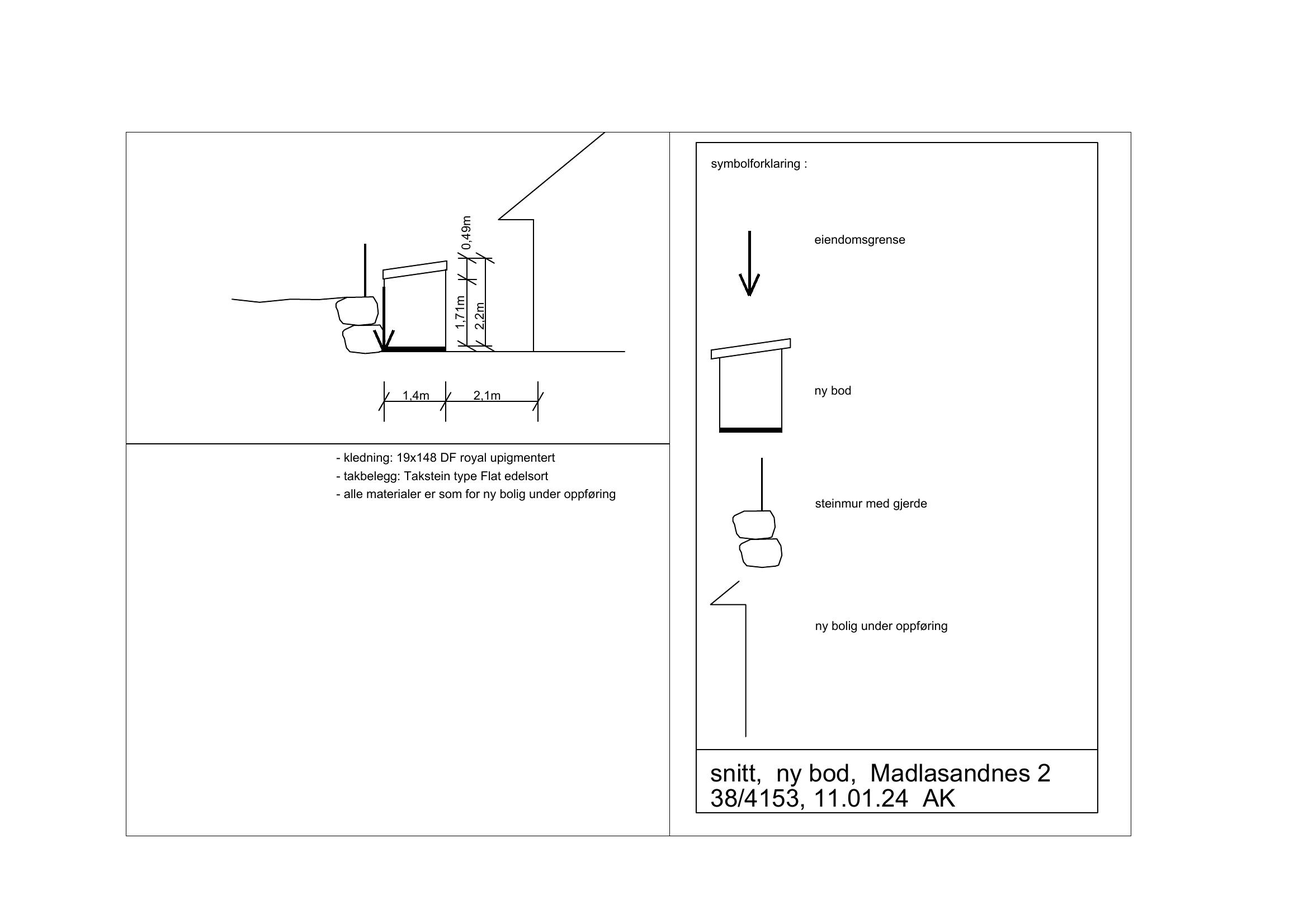snitt: (381, 260, 449, 350)
